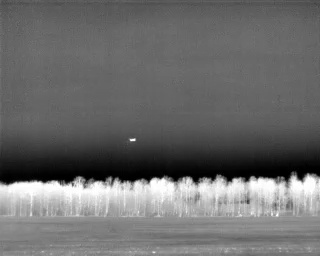DRONE: (126, 134, 140, 146)
